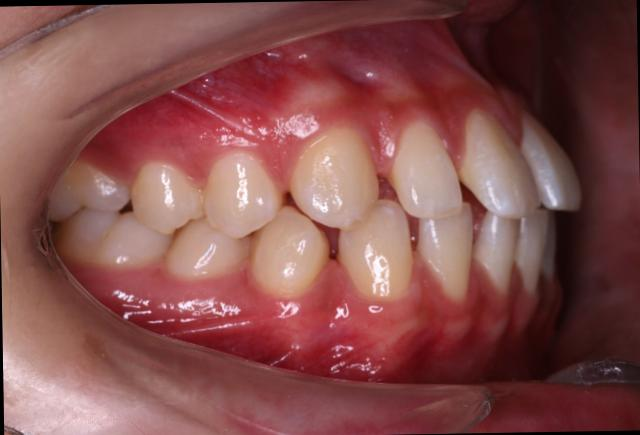canine class II 1/4: (244, 122, 416, 312)
molar class III 1/4: (54, 160, 168, 279)
